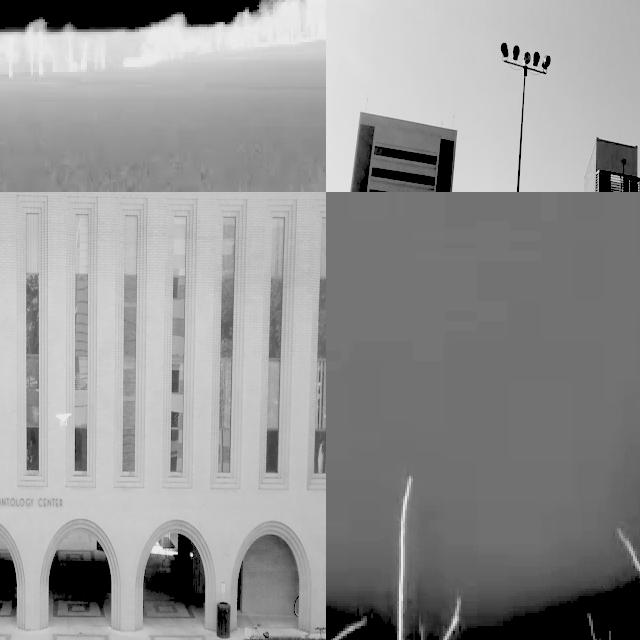drone: (54, 409, 75, 431)
